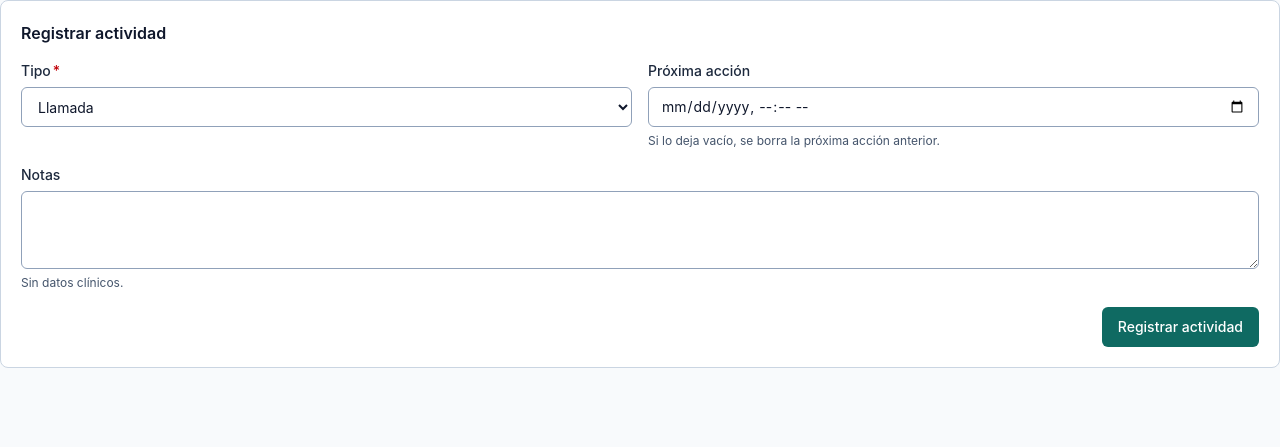
Test case: ActivityForm › muestra el error del servidor de forma legible
Click the button "Registrar actividad" at {"x": 1180, "y": 327}, box [1102,307,1259,347]
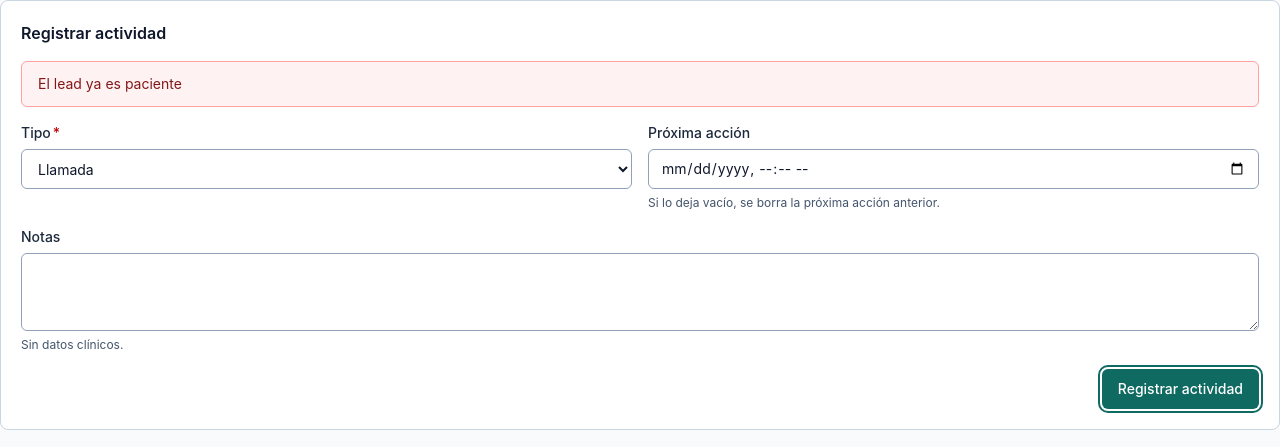
Expected: the text "El lead ya es paciente" is shown, [38,75,182,92]
